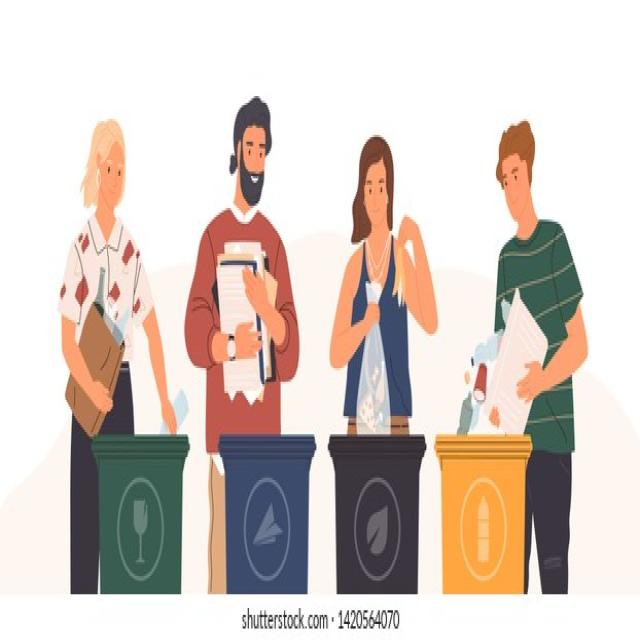glass: (94, 267, 134, 336)
paper: (218, 244, 272, 443), (501, 288, 538, 421)
plastic: (361, 288, 393, 439), (164, 388, 186, 446), (473, 357, 490, 409), (458, 391, 471, 443)
